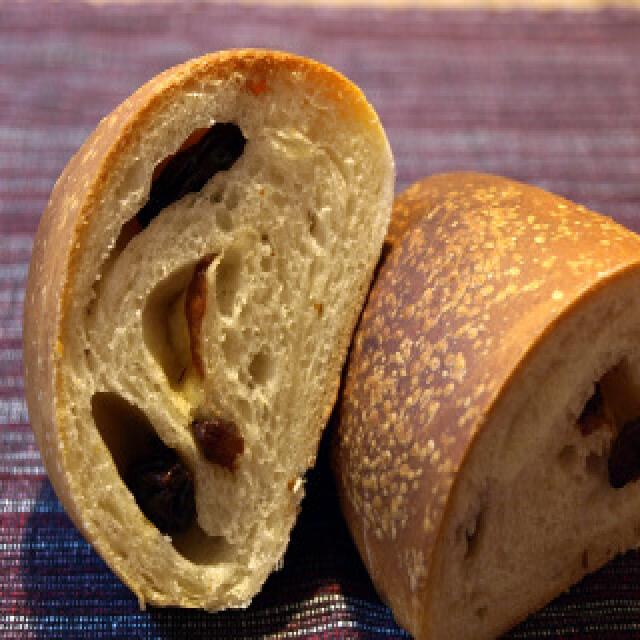面包点心: (16, 48, 640, 640)
